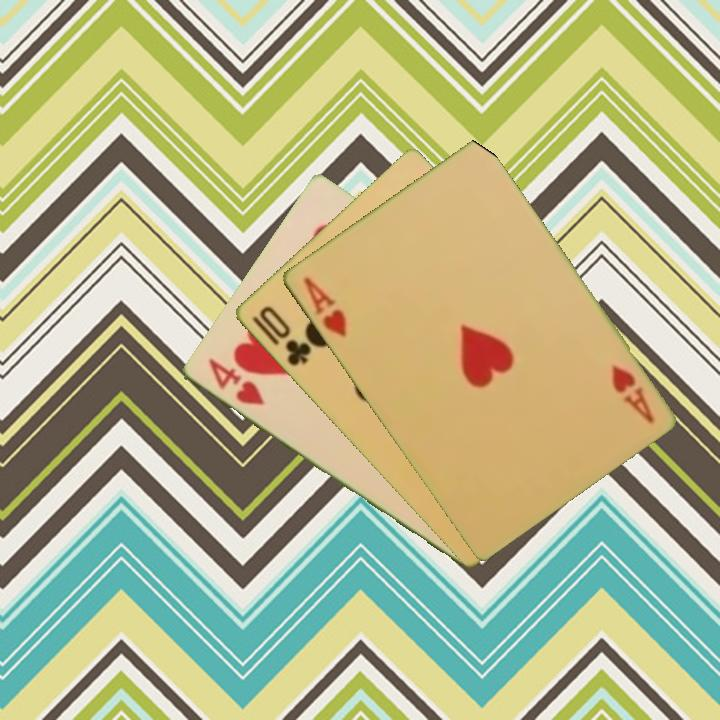10c: (248, 302, 314, 369)
4h: (203, 354, 267, 409)
Ah: (299, 273, 349, 340), (607, 360, 657, 426)
